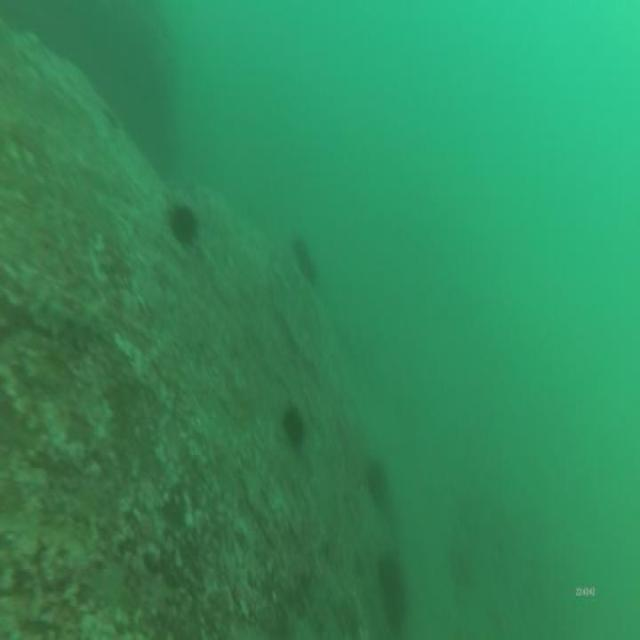echinus: (376, 548, 411, 640), (289, 229, 319, 289), (280, 395, 308, 458), (167, 196, 199, 251), (364, 453, 388, 502)
